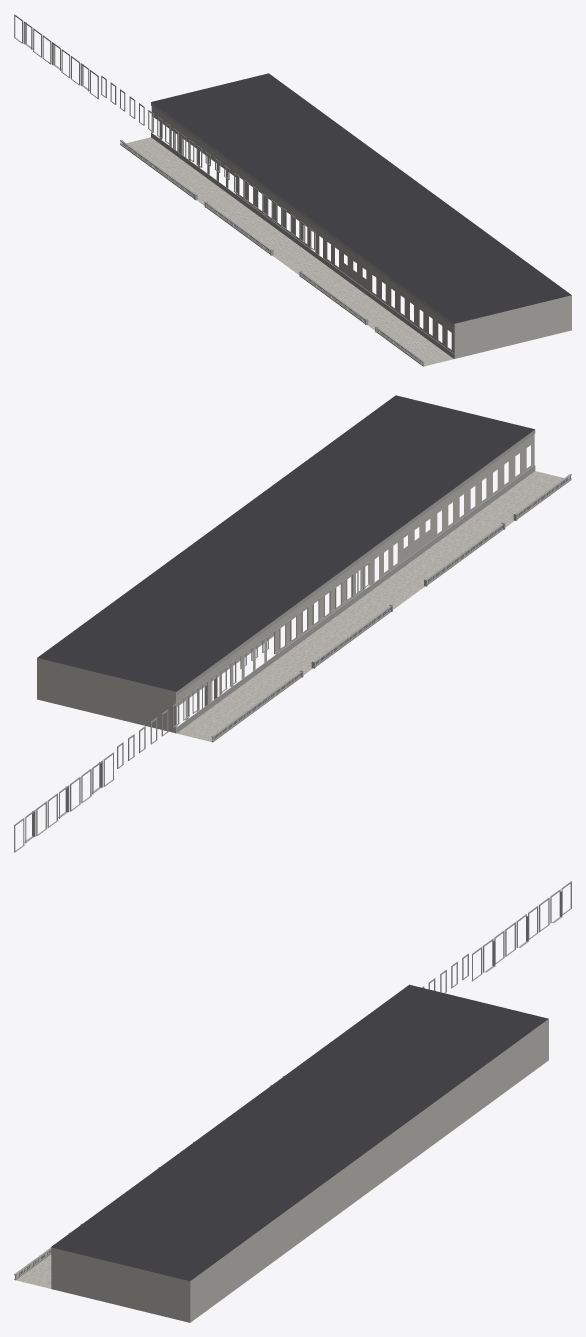
Rendered from terrace.glb.
3 renders of one model, top to bottom at view 1: azimuth 30°, elevation 25°; view 2: azimuth 150°, elevation 25°; view 3: azimuth 330°, elevation 25°, orthographic. The views are drawn at different scales.
Parts seen in each view (by area): view 1: terrace; view 2: terrace; view 3: terrace.
Part boxes in pixels (left/top/right/bottom): terrace: left=14, top=14, right=571, bottom=366; terrace: left=14, top=395, right=571, bottom=852; terrace: left=14, top=881, right=571, bottom=1322.
Size of the model in its own units: 36.4 by 8.32 by 186.
4 materials, 2 textured.
